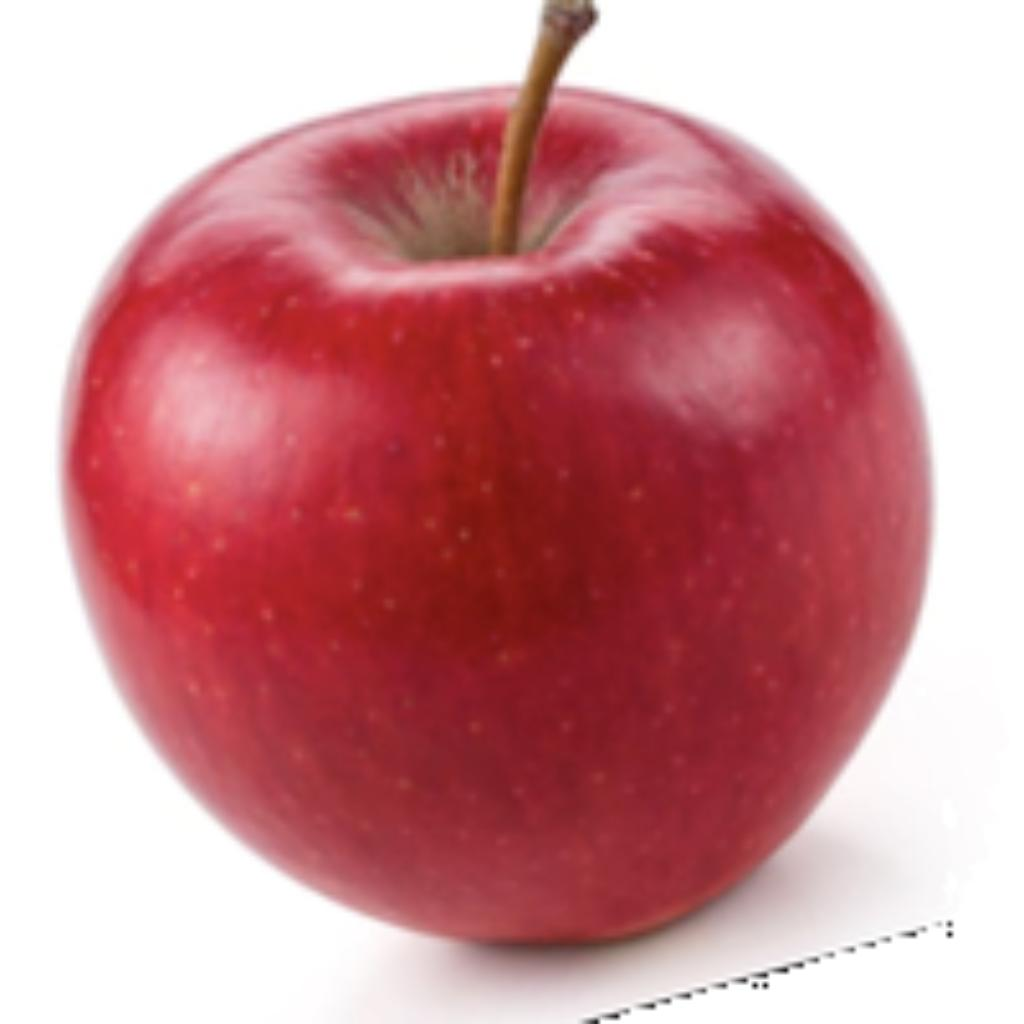apple: (46, 0, 937, 1019)
